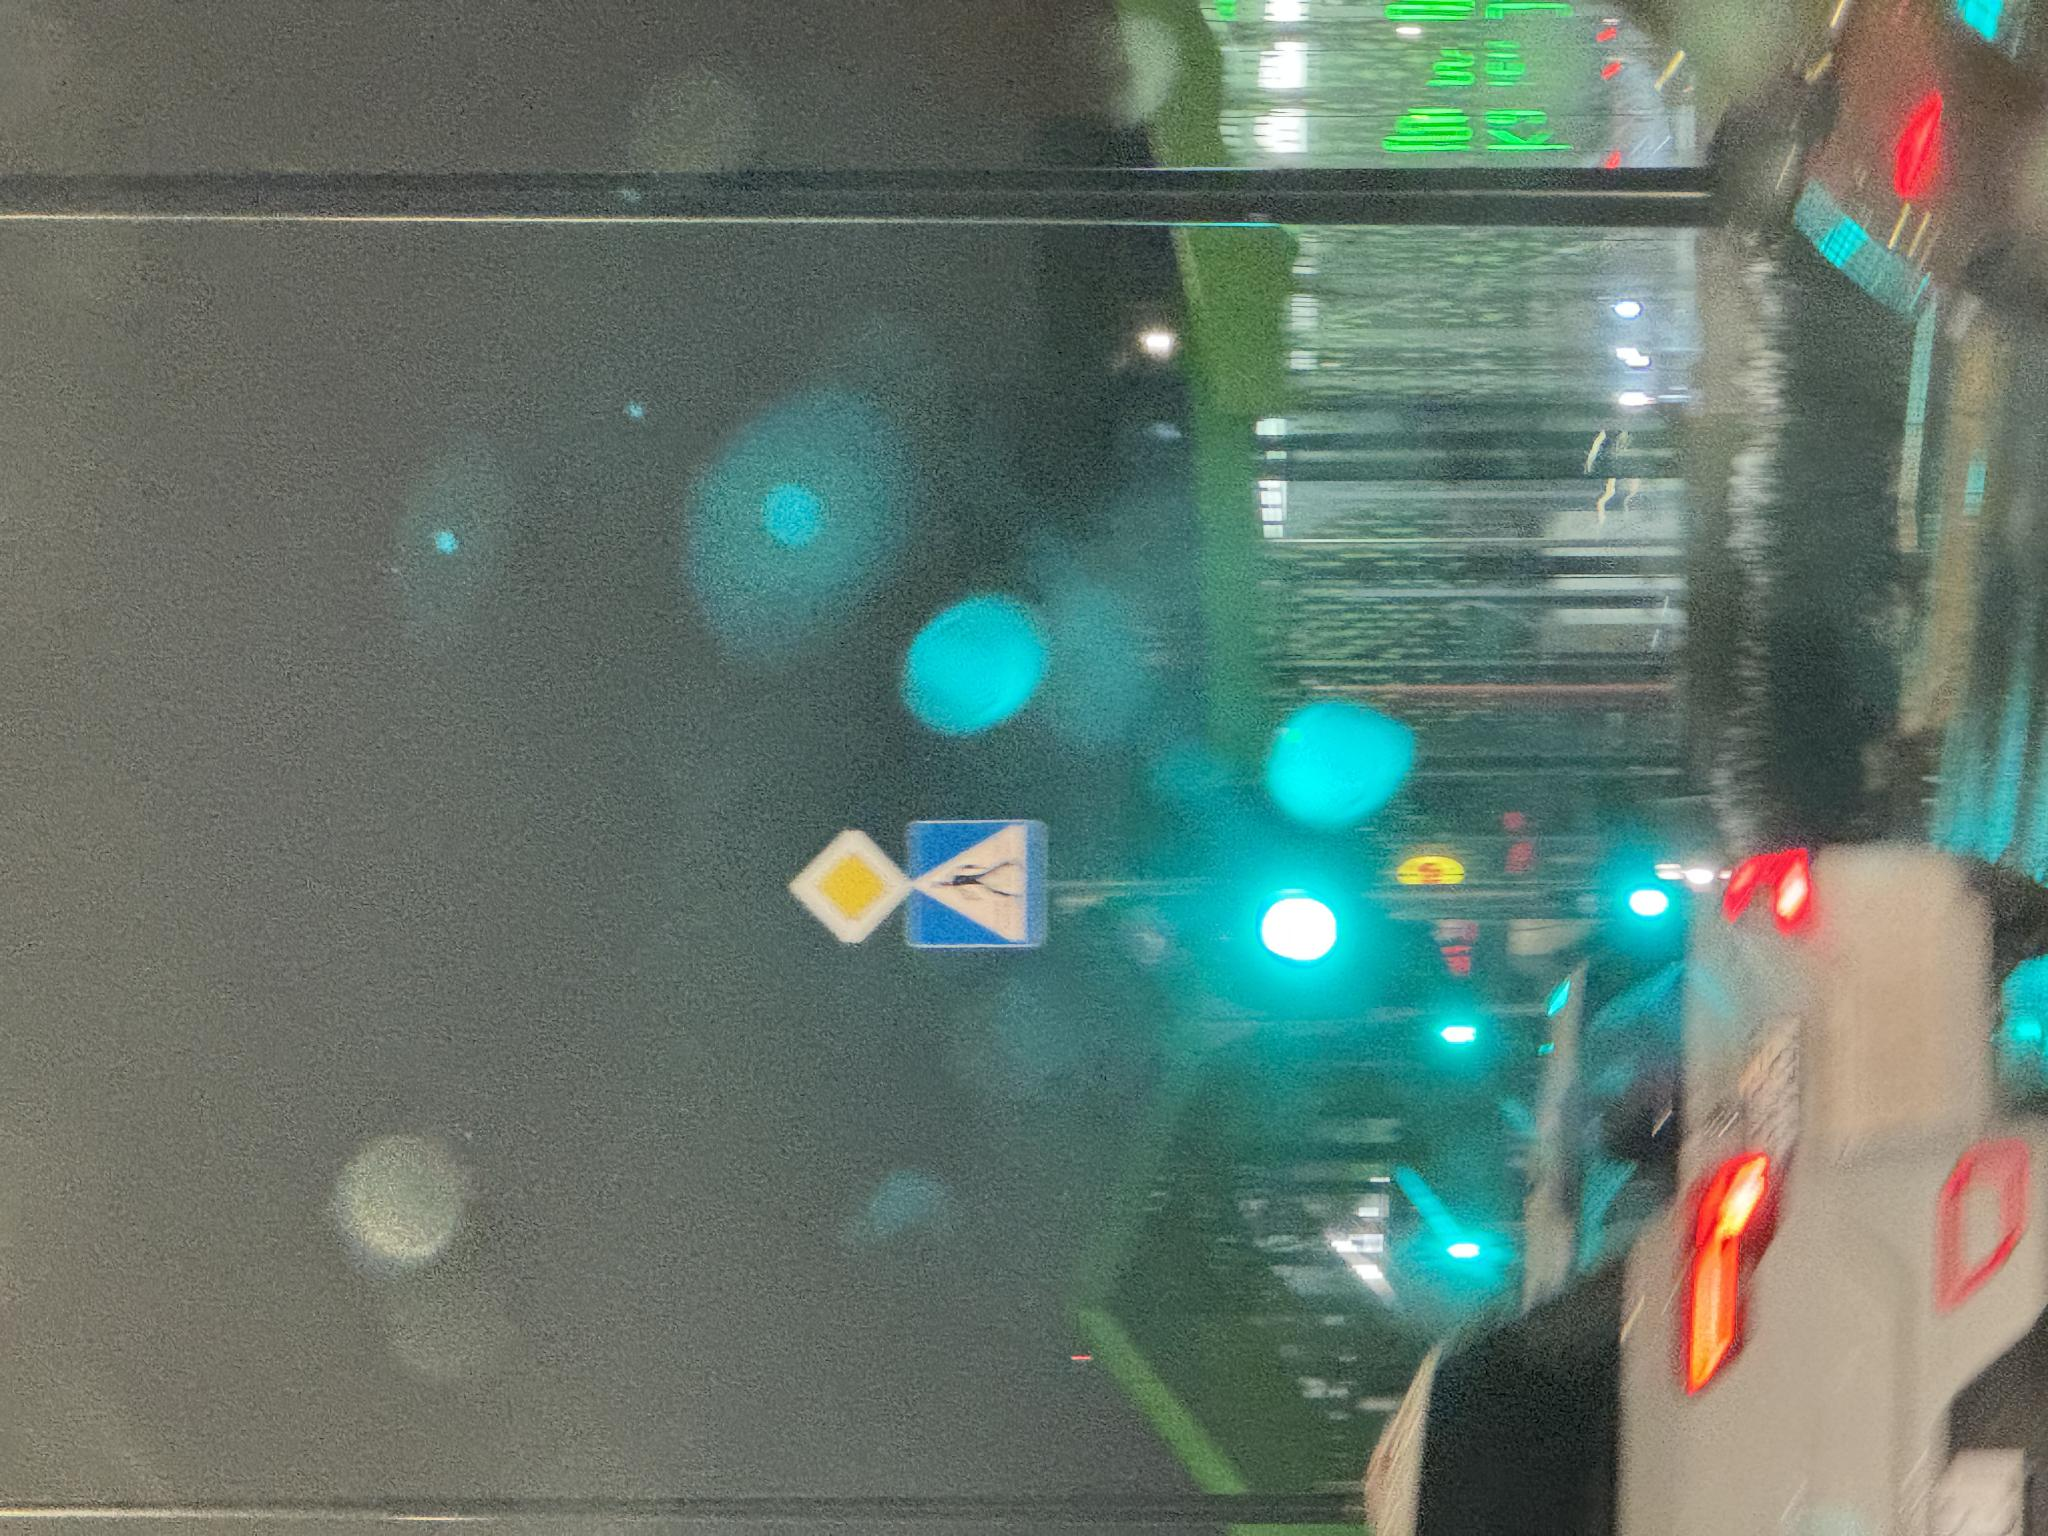information: (586, 909, 720, 1052), (589, 788, 711, 912)
